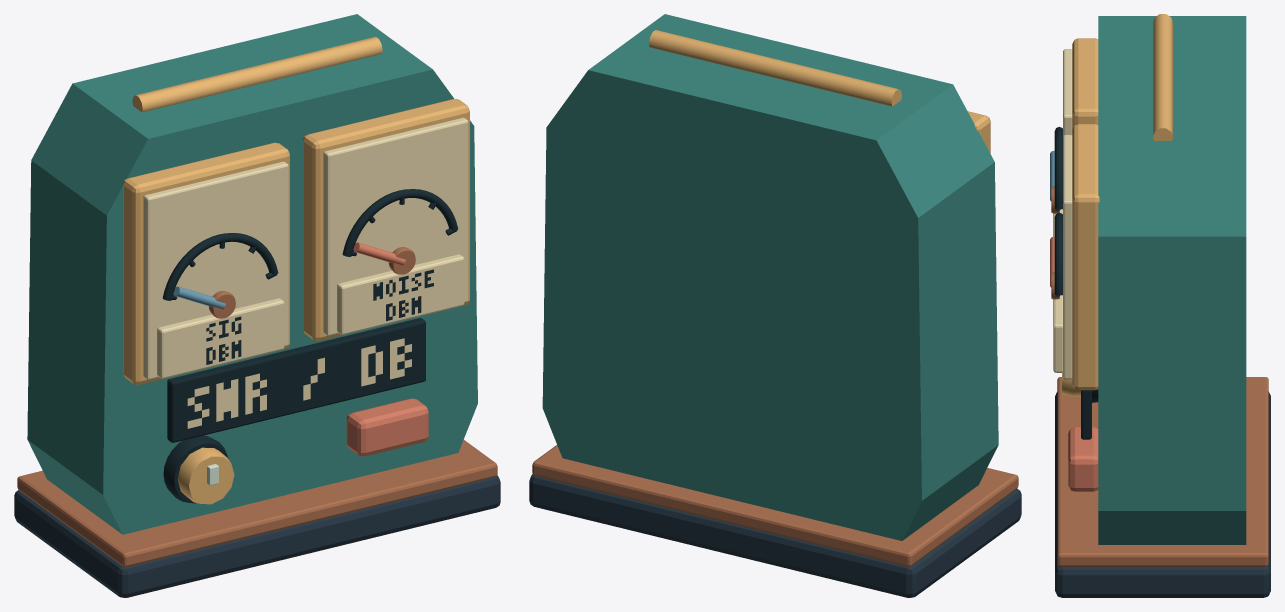
The picture shows the model from 3 angles, left to right: view 1: azimuth 30°, elevation 25°; view 2: azimuth 150°, elevation 25°; view 3: azimuth 270°, elevation 25°; orthographic projection. The views are drawn at different scales.
Visible parts, largest first — view 1: PR074 enamel and hardware; view 2: PR074 enamel and hardware; view 3: PR074 enamel and hardware.
Boxes of the visible parts, x1=… form: PR074 enamel and hardware: x1=14, y1=14, x2=500, y2=597; PR074 enamel and hardware: x1=529, y1=14, x2=1021, y2=597; PR074 enamel and hardware: x1=1050, y1=14, x2=1270, y2=597.
Bounding box in the file's own units: 1 × 1.12 × 0.5118.
